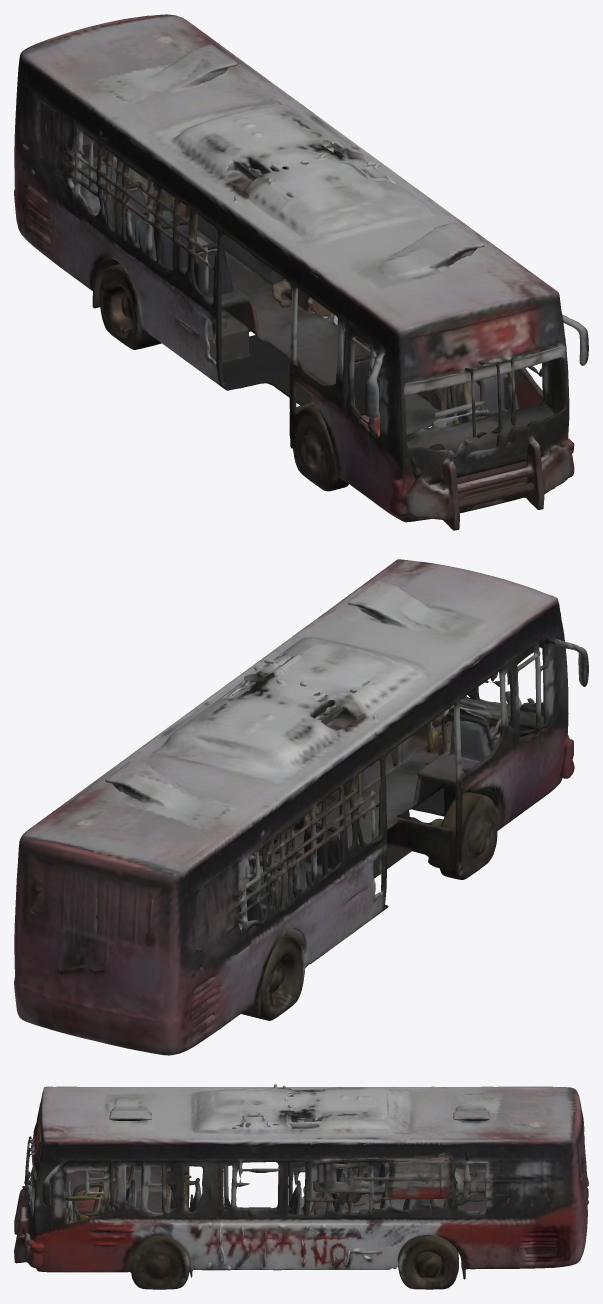
Rendered from linea60.glb.
The picture shows the model from 3 angles, top to bottom: view 1: azimuth 30°, elevation 25°; view 2: azimuth 150°, elevation 25°; view 3: azimuth 270°, elevation 25°; orthographic projection. The views are drawn at different scales.
Parts seen in each view (by area): view 1: tripo_node_bd89e095-9407-4cd2-9204-43f7a9ec6bac; view 2: tripo_node_bd89e095-9407-4cd2-9204-43f7a9ec6bac; view 3: tripo_node_bd89e095-9407-4cd2-9204-43f7a9ec6bac.
Boxes of the visible parts, x1,y1,x2,y2 form: tripo_node_bd89e095-9407-4cd2-9204-43f7a9ec6bac: (14,14,588,530); tripo_node_bd89e095-9407-4cd2-9204-43f7a9ec6bac: (14,559,588,1055); tripo_node_bd89e095-9407-4cd2-9204-43f7a9ec6bac: (14,1084,588,1289).
Bounding box in the file's own units: 0.3121 × 0.3161 × 1.
1 material, 1 textured.
